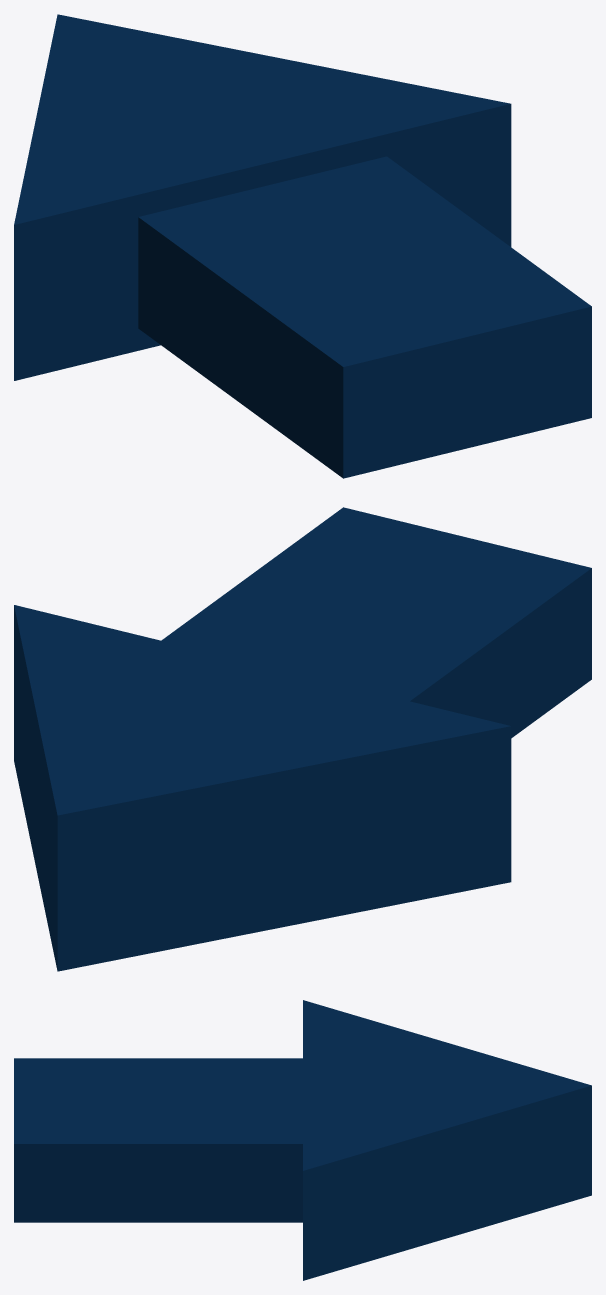
The model's file is Arrow.fbx.
3 views of the same model, one above another, from view 1: azimuth 30°, elevation 25°; view 2: azimuth 150°, elevation 25°; view 3: azimuth 270°, elevation 25° (orthographic). The views are drawn at different scales.
Parts seen in each view (by area): view 1: Arrow; view 2: Arrow; view 3: Arrow.
Boxes of the visible parts, left/top/right/bottom form: Arrow: left=14, top=14, right=591, bottom=478; Arrow: left=14, top=507, right=591, bottom=971; Arrow: left=14, top=1000, right=591, bottom=1280.
Bounding box in the file's own units: 84 × 25.2 × 120.
